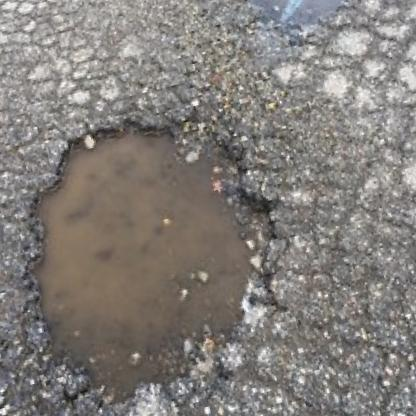pothole: (0, 83, 317, 416), (221, 0, 416, 45)
